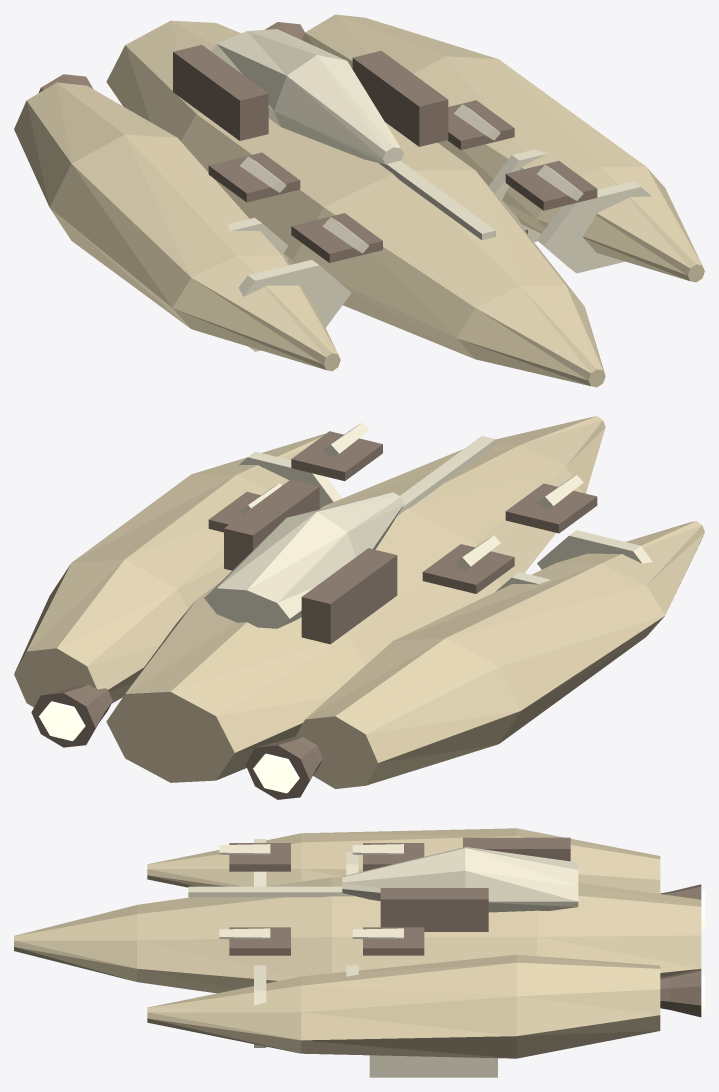
3 views of the same model, one above another, from view 1: azimuth 30°, elevation 25°; view 2: azimuth 150°, elevation 25°; view 3: azimuth 270°, elevation 25° (orthographic). The views are drawn at different scales.
Bounding box in the file's own units: 10.22 × 3.61 × 15.4.
